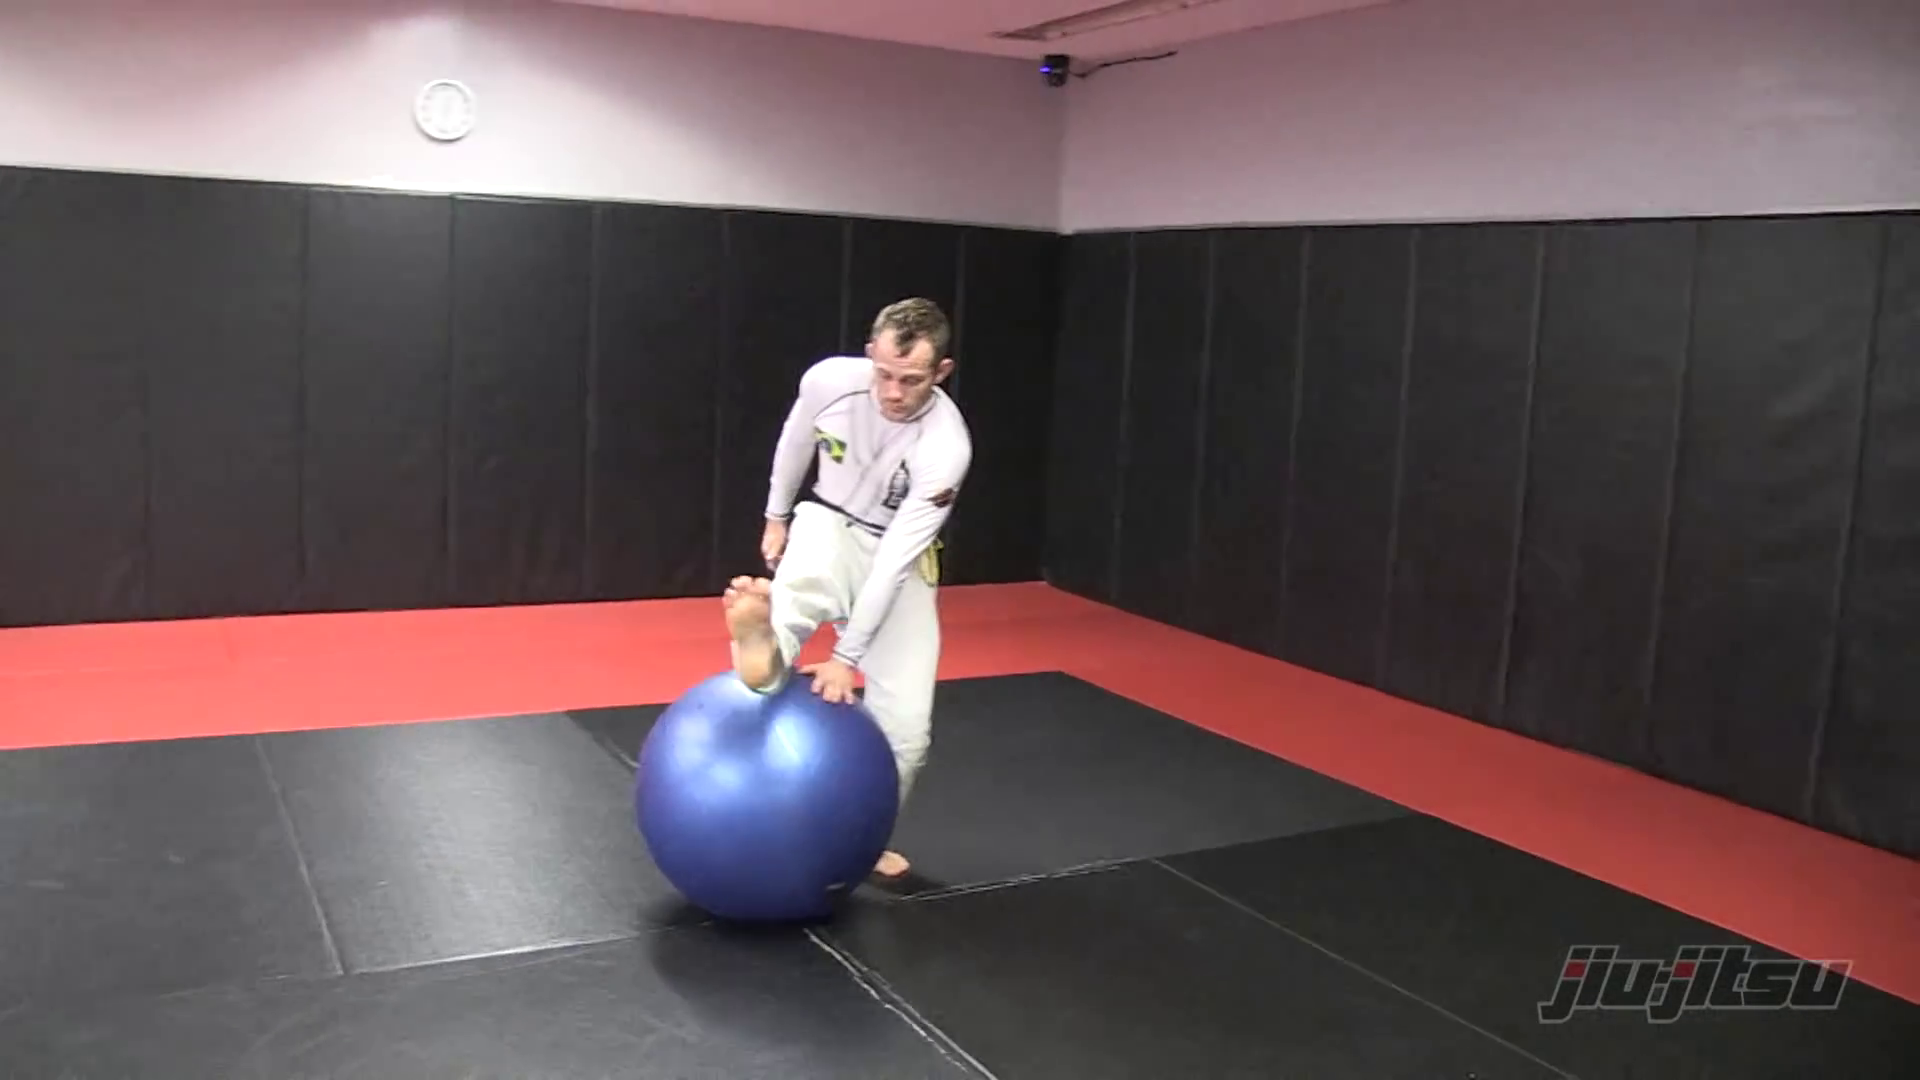yogaball: (618, 651, 903, 957)
